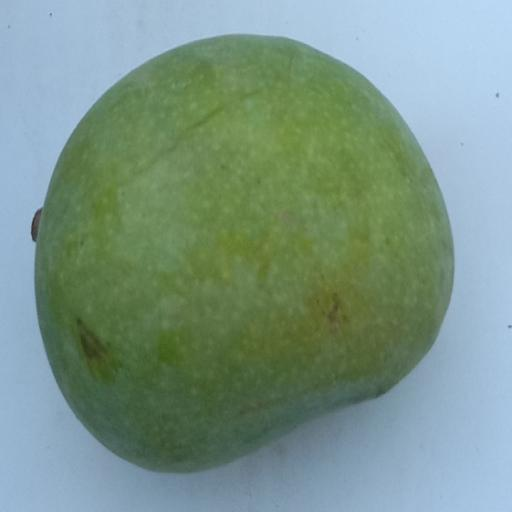mango-unripe: (15, 13, 473, 474)
